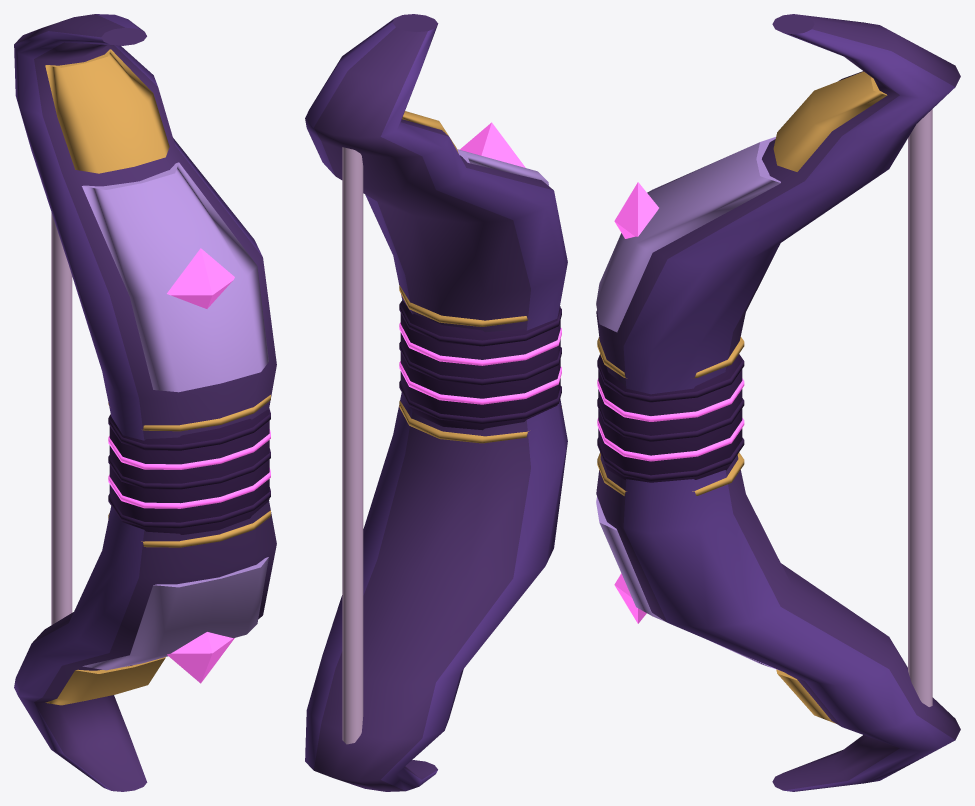
File: bow-epic.glb
3 renders of one model, left to right at view 1: azimuth 30°, elevation 25°; view 2: azimuth 150°, elevation 25°; view 3: azimuth 270°, elevation 25°, orthographic.
Visible parts, largest first — view 1: Body, BowString; view 2: Body, BowString; view 3: Body, BowString.
Part boxes in pixels (left/top/right/bottom): Body: left=14, top=14, right=276, bottom=791; BowString: left=51, top=212, right=72, bottom=624; Body: left=305, top=14, right=567, bottom=791; BowString: left=342, top=147, right=363, bottom=744; Body: left=596, top=14, right=960, bottom=791; BowString: left=908, top=109, right=932, bottom=706.
Size of the model in its own units: 0.119 by 0.4787 by 0.2089.
